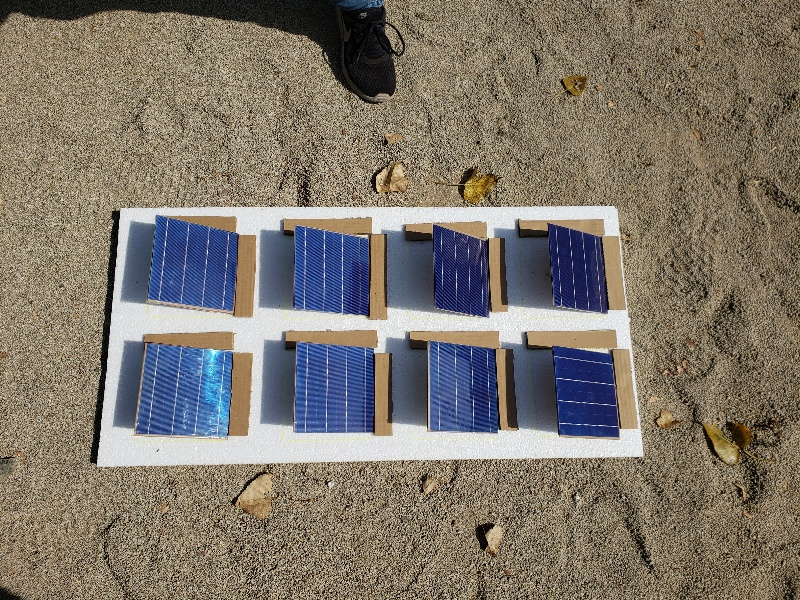clean: (140, 340, 223, 443), (154, 218, 239, 315), (546, 344, 630, 440), (294, 225, 376, 322), (428, 336, 503, 434), (295, 343, 375, 432), (545, 225, 613, 314), (437, 228, 491, 321)
